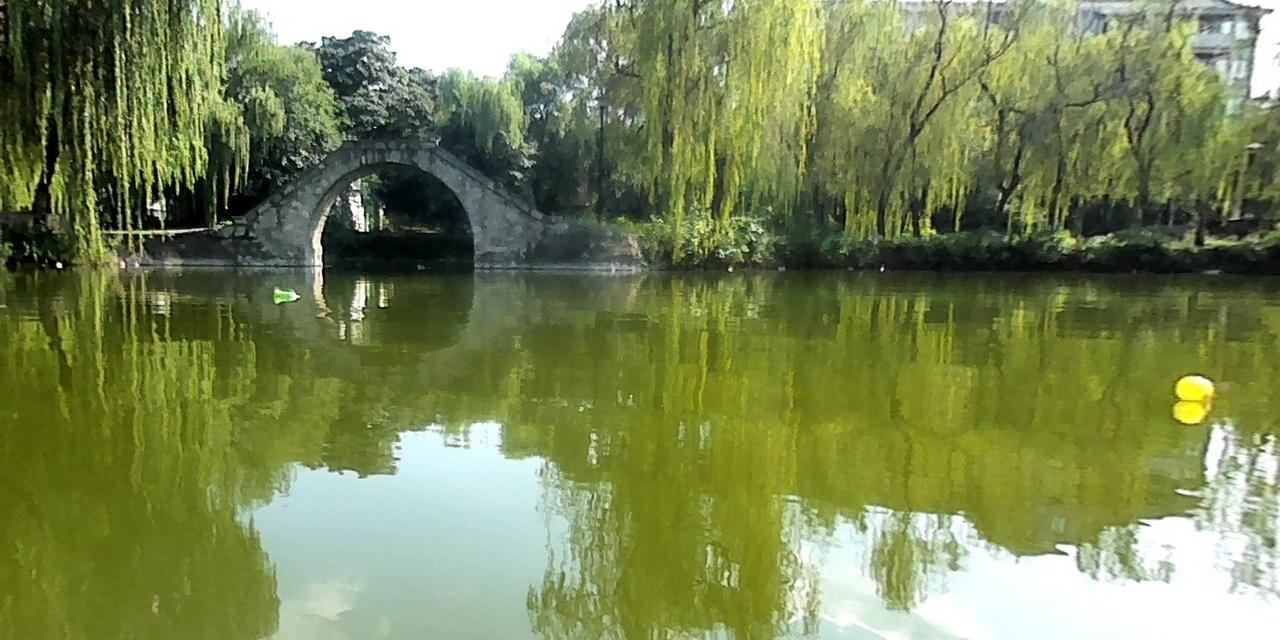bottle: (1173, 370, 1215, 400), (270, 285, 299, 302)
